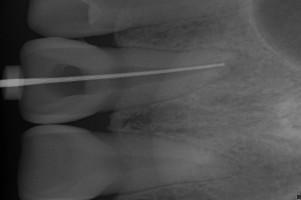Furcation Involvement: (217, 50, 262, 81)
